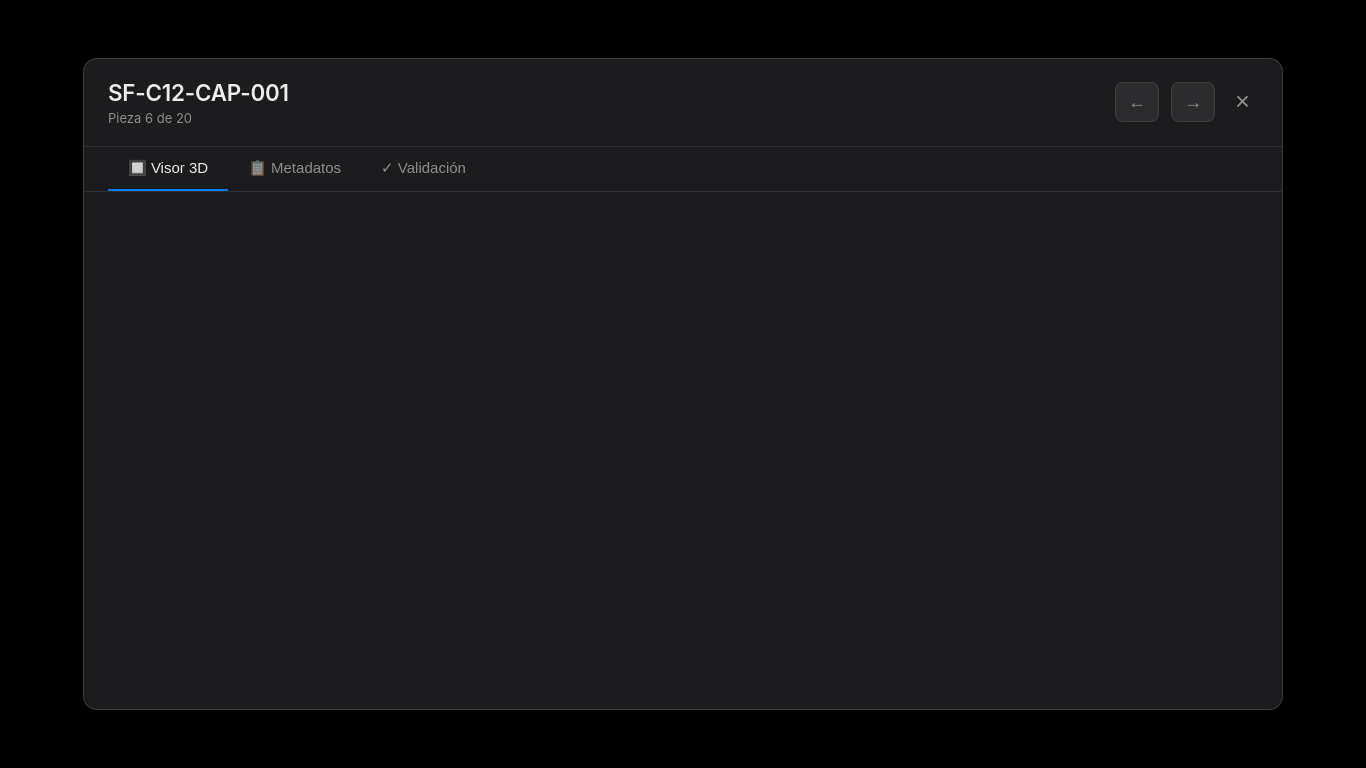
Scenario: T-1009-TEST-FRONT: 3D Viewer Integration Tests - Happy Path › HP-INT-04: should navigate to next part when Next button clicked
expect the heading "SF-C12-CAP-001" is shown: met, box [108,79,289,106]
Click the button named "pieza siguiente" at (1193, 102), box [1171,82,1215,122]
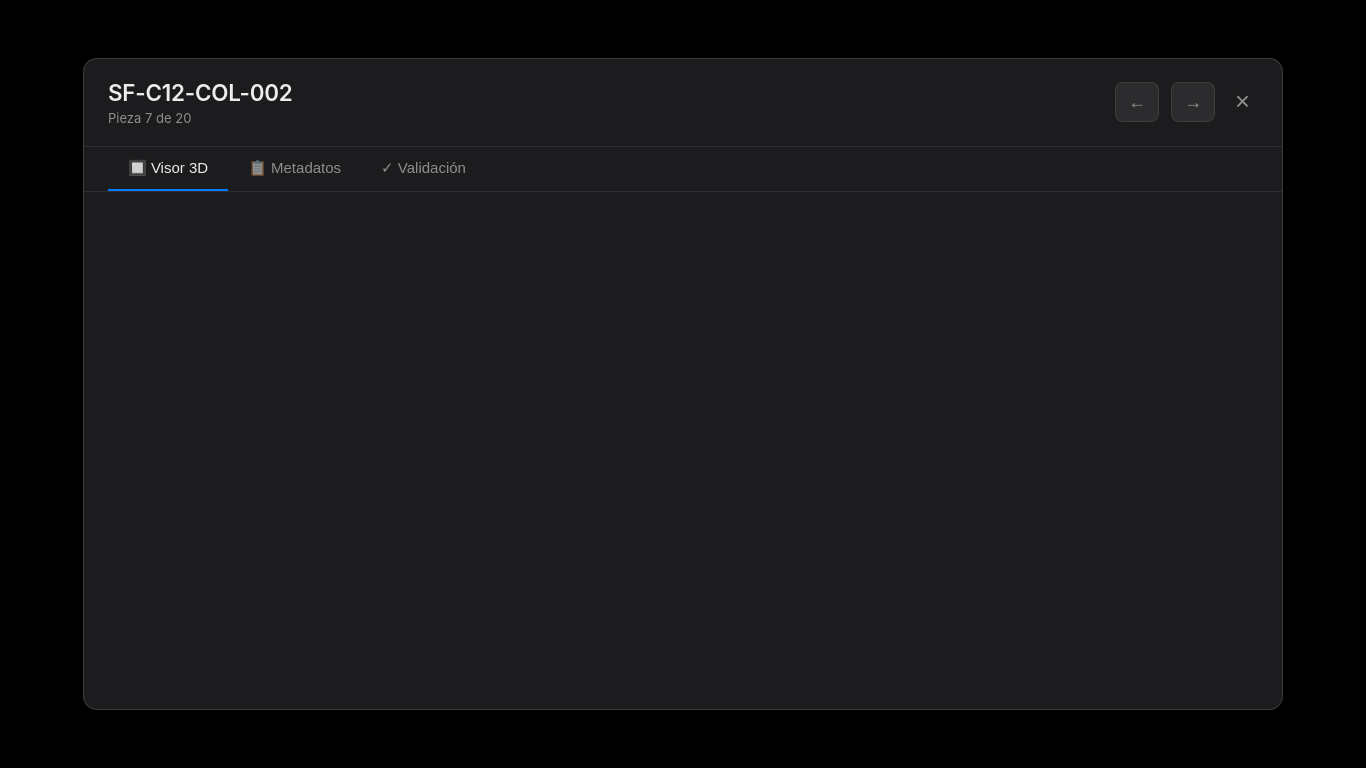
expect the heading "SF-C12-COL-002" is shown: met, box [108,79,292,106]
